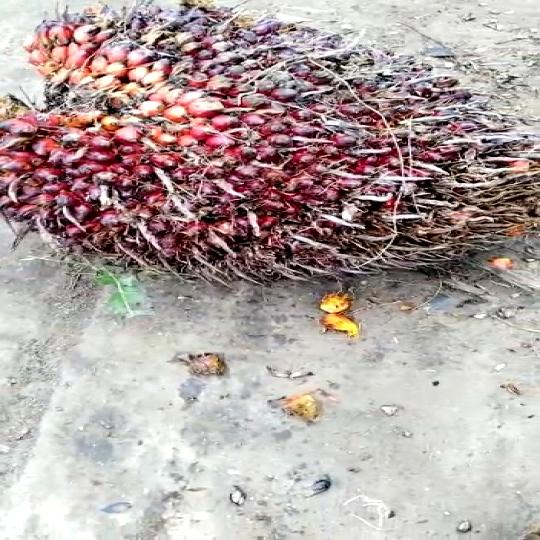masak: (0, 9, 540, 289)
